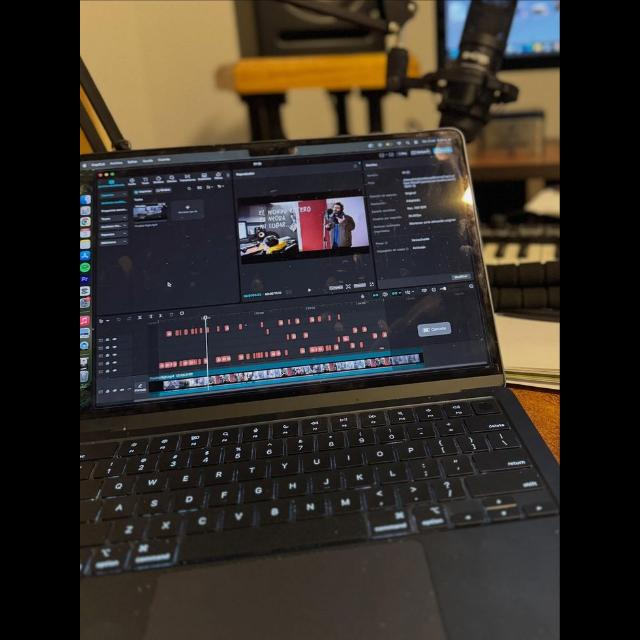laptop: (88, 144, 560, 640)
